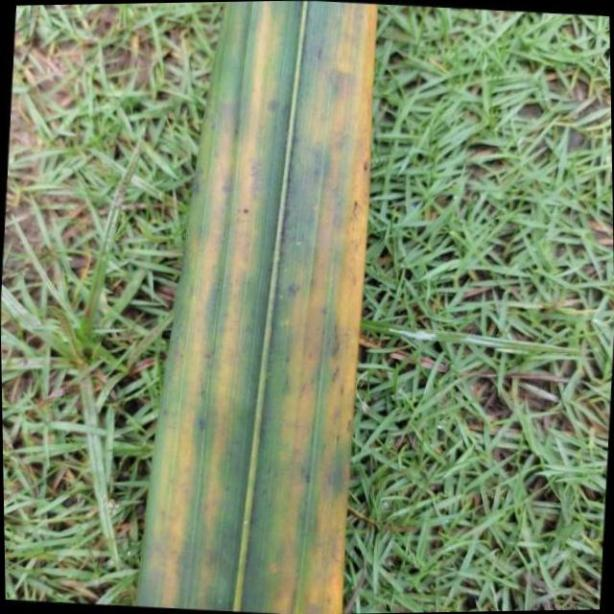Megnesium: (142, 6, 376, 614)
